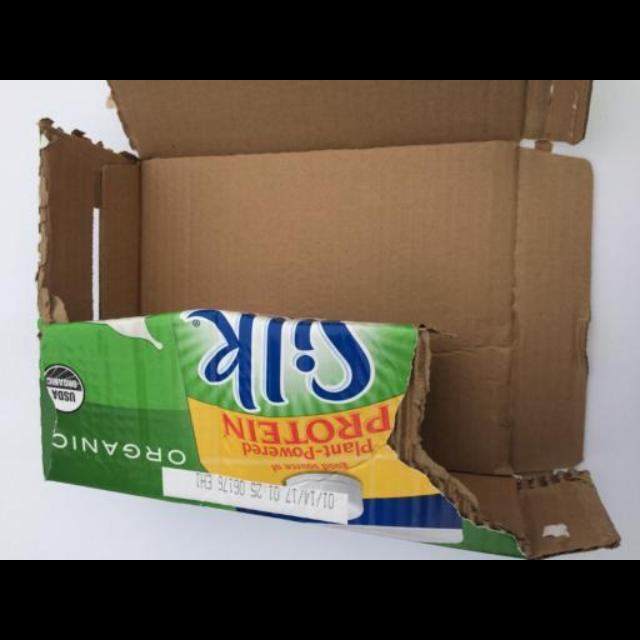papelão: (34, 80, 624, 560)
